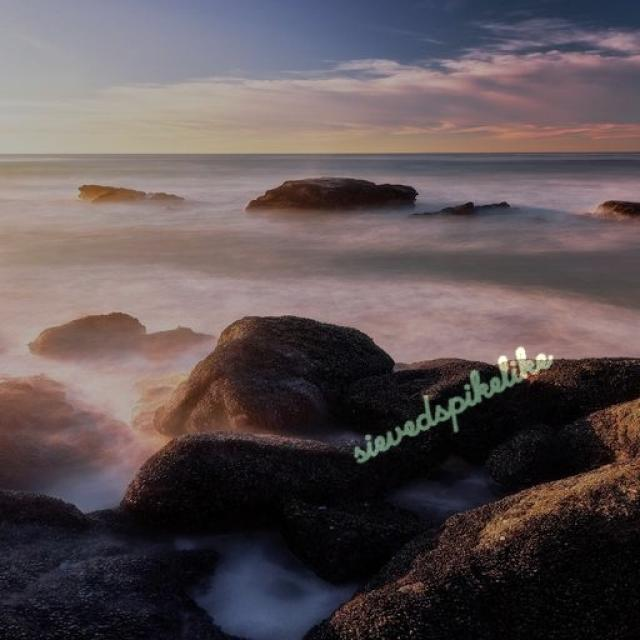watermark: (349, 331, 553, 469)
